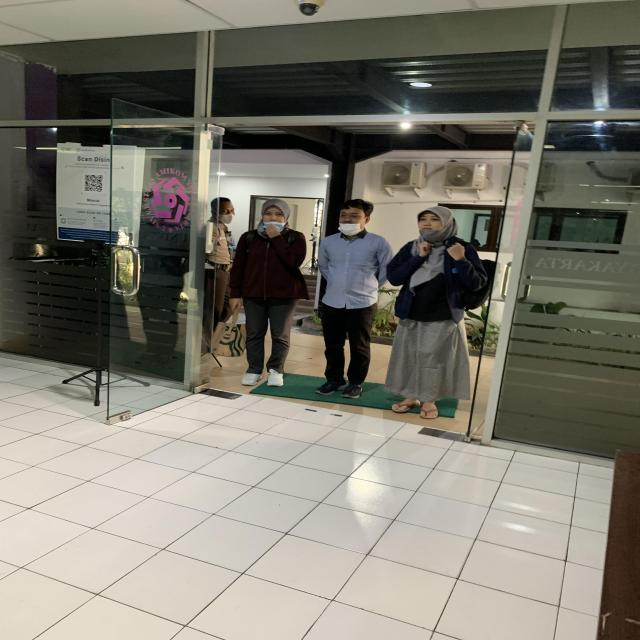hairnet: (413, 207, 461, 244), (338, 198, 370, 236), (258, 200, 292, 234)
